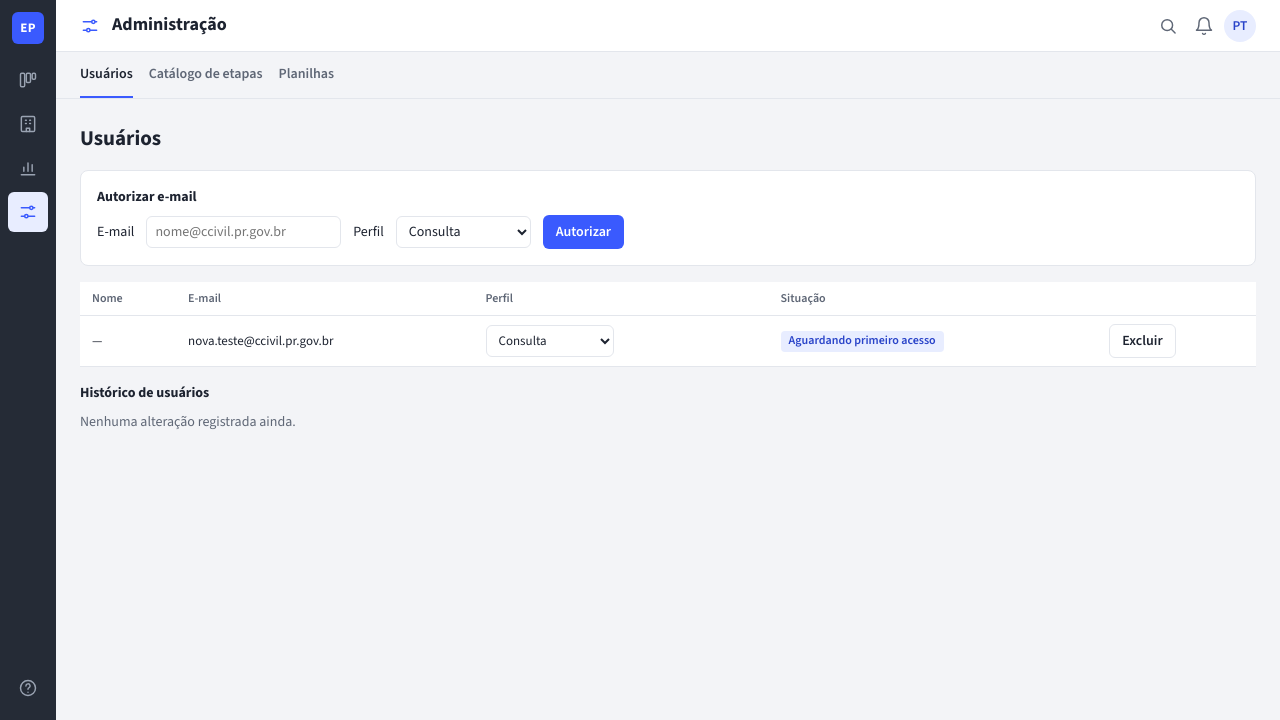
Test: falha ao mudar o perfil mostra o motivo, mantém a escolha e não grava
expect the table is shown: met, box [80,282,1256,367]
Select "Administrador" in the dropdown named "Perfil de nova.teste@ccivil.pr.gov.br" at (550, 341), box [486,325,614,357]
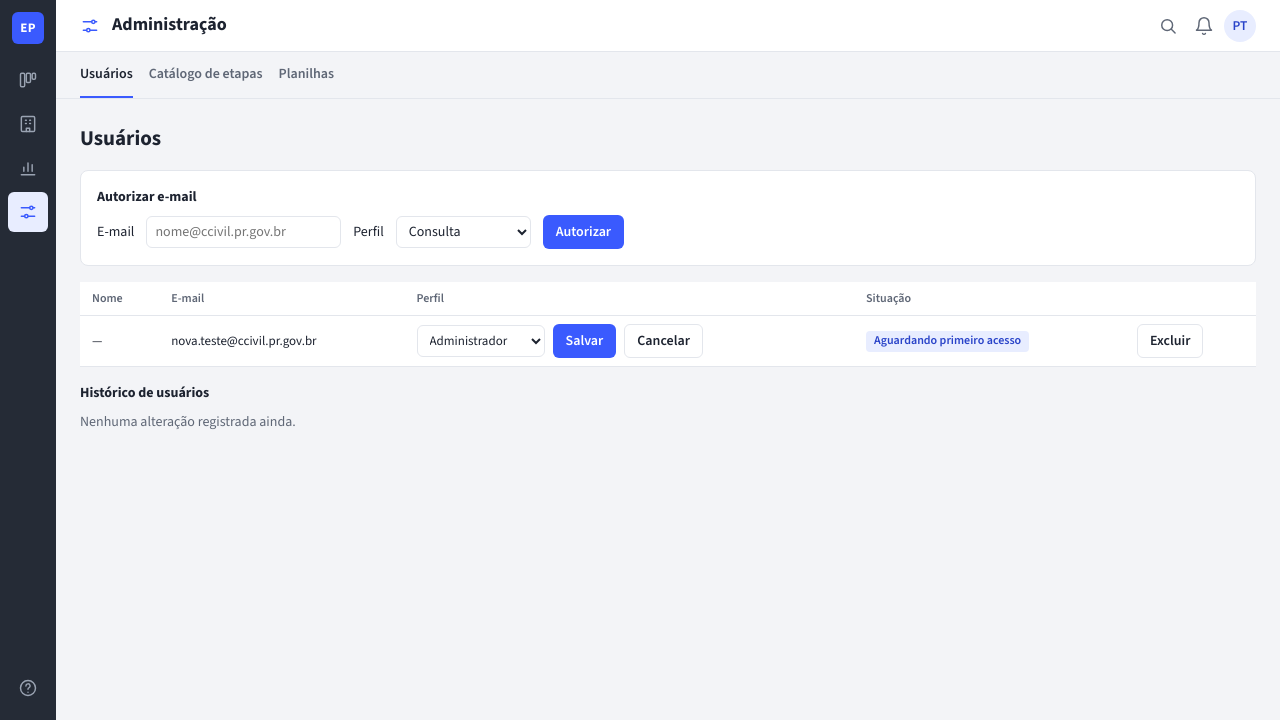
Click the button "Salvar" at (584, 341), box [552,324,616,358]
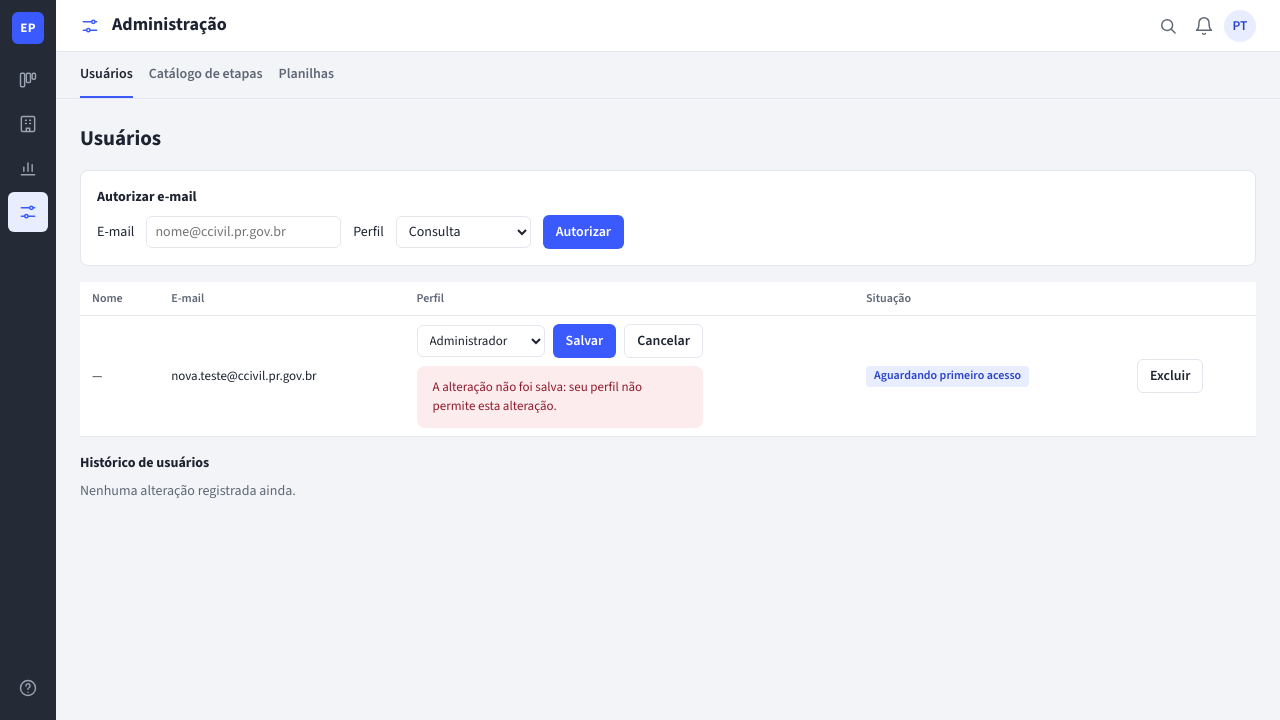
expect the text "A alteração não foi salva: seu perfil não permite esta alteração." is shown: met, box [416,366,703,428]
